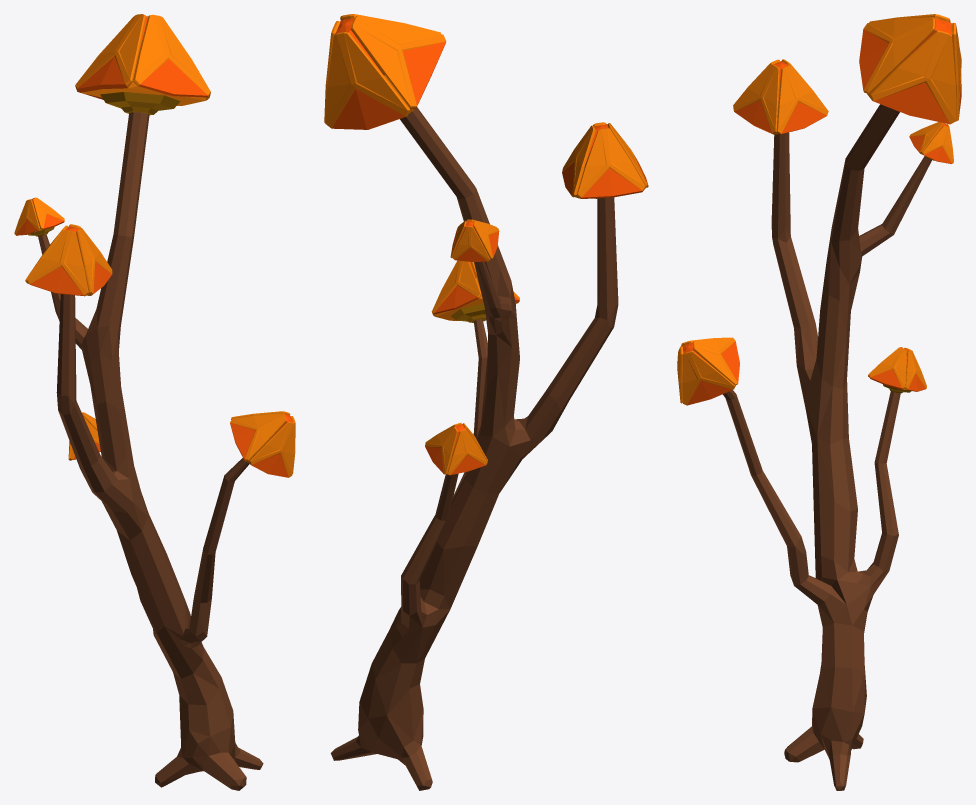
File: SM_Tree_04.glb
3 renders of one model, left to right at view 1: azimuth 30°, elevation 25°; view 2: azimuth 150°, elevation 25°; view 3: azimuth 270°, elevation 25°, orthographic. The views are drawn at different scales.
Parts seen in each view (by area): view 1: SM_Tree_04; view 2: SM_Tree_04; view 3: SM_Tree_04.
Part boxes in pixels (x1=…): SM_Tree_04: x1=14, y1=14, x2=295, y2=790; SM_Tree_04: x1=324, y1=14, x2=648, y2=790; SM_Tree_04: x1=677, y1=14, x2=961, y2=790.
Size of the model in its own units: 2.17 by 5.82 by 2.02.
Materials: 1 (1 with a texture image).
